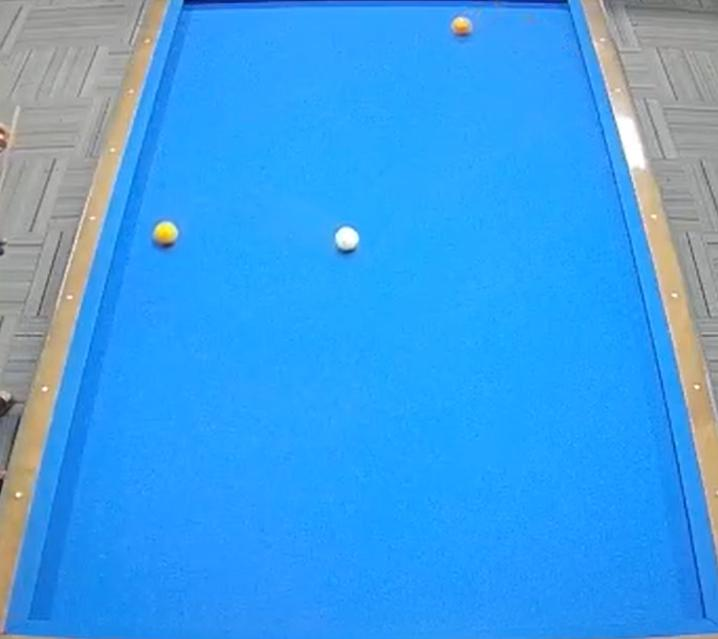orange ball: (449, 12, 475, 43)
white ball: (329, 222, 366, 260)
yellow ball: (149, 220, 181, 251)
